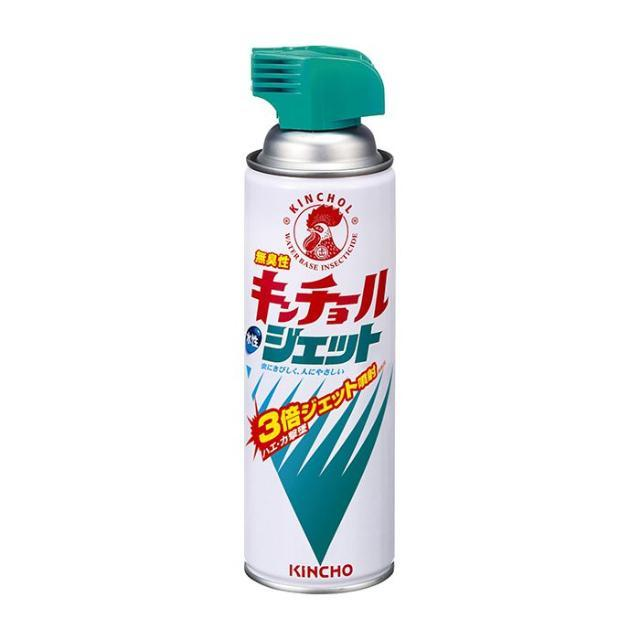chemical_spray_can: (227, 34, 446, 624)
